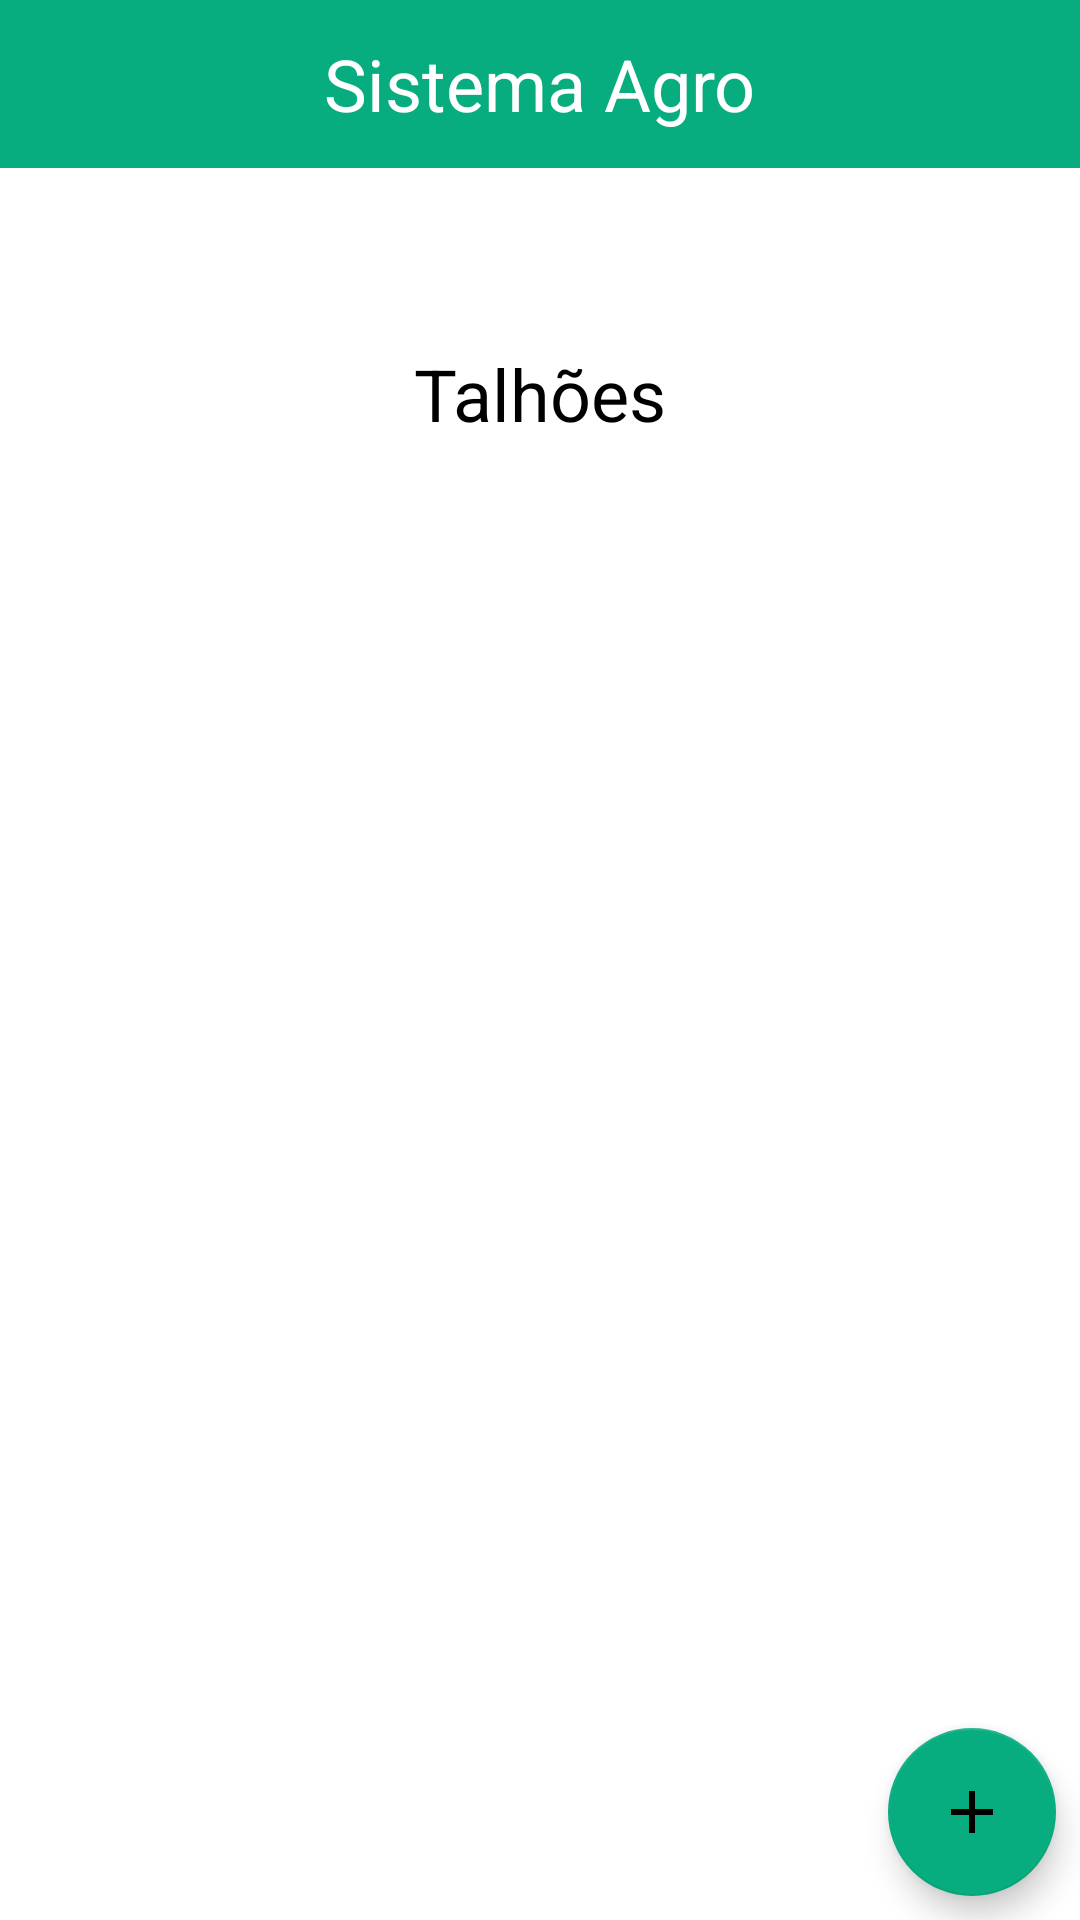

Named icons in this screenshot (1080×1920) and their bounding boxes, (x1, y1, x2, y2):
add: (888, 1728, 1056, 1896)
